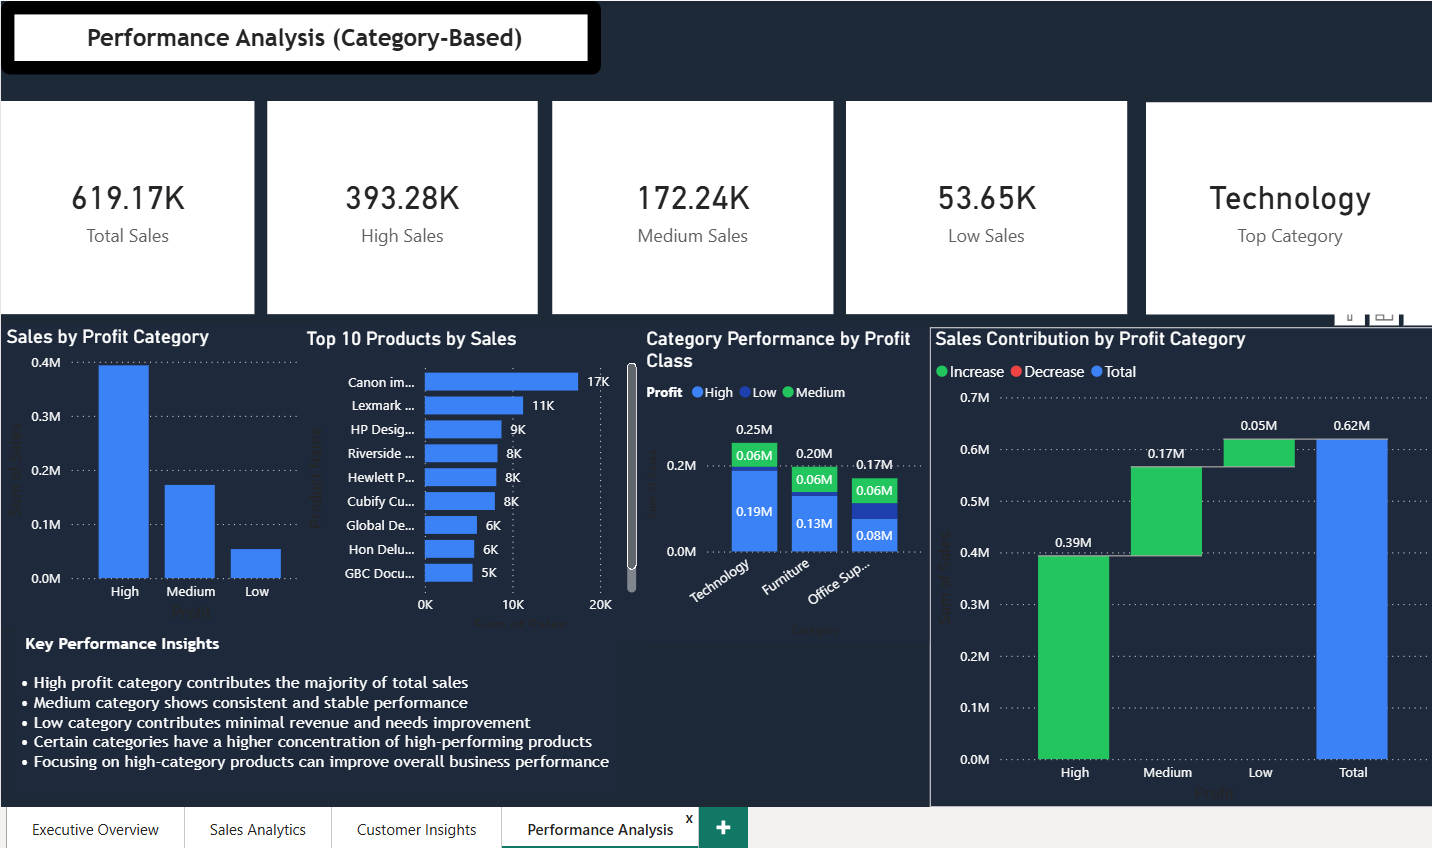

Layout of this report page (visuals, bound fields, positions):
{"tool":"powerbi","page":{"name":"Performance Analysis","canvas":[1280,720],"ordinal":3},"visuals":[{"type":"waterfallChart","title":"Sales Contribution by Profit Category","fields":{"Category":["train.Profit"],"Y":["Sum(train.Sales)"]},"box":[830.2,290.9,450.1,429.5],"z":2000},{"type":"textbox","box":[0,0,536,65.9],"z":5000},{"type":"card","fields":{"Values":["train.Top Category"]},"box":[1022.3,90.6,258,189.4],"z":5003},{"type":"card","fields":{"Values":["train.Total Sales"]},"box":[0,89.2,226.4,190.7],"z":5004},{"type":"card","fields":{"Values":["train.High Sales"]},"box":[237.4,89.2,241.5,190.7],"z":5005},{"type":"card","fields":{"Values":["train.Medium Sales"]},"box":[492.6,89.2,251.1,190.7],"z":5006},{"type":"card","fields":{"Values":["train.Low Sales"]},"box":[754.7,89.2,251.1,190.7],"z":5007},{"type":"clusteredColumnChart","title":"Sales by Profit Category","fields":{"Category":["train.Profit"],"Y":["Sum(train.Sales)"]},"box":[0,289.5,281.3,270.3],"z":5008},{"type":"columnChart","title":"Category Performance by Profit Class","fields":{"Category":["train.Category"],"Series":["train.Profit"],"Y":["Sum(train.Sales)"]},"box":[572.2,290.9,258,281.3],"z":5009},{"type":"clusteredBarChart","title":"Top 10 Products by Sales","fields":{"Category":["train.Product Name"],"Y":["Sum(train.Sales)"]},"box":[267.6,290.9,304.6,279.9],"z":5010},{"type":"textbox","box":[12.3,559.9,537.9,148.2],"z":5011}]}

Visuals, with their boxes on the page's 1280x720 design canvas (x1, y1, x2, y2). These are canvas units, not pixel positions in the 1432x848 screenshot, which may show the page scaled, cropped or inside an application window:
"Sales Contribution by Profit Category" waterfallChart: 830,291,1280,720
textbox: 0,0,536,66
card - train.Top Category: 1022,91,1280,280
card - train.Total Sales: 0,89,226,280
card - train.High Sales: 237,89,479,280
card - train.Medium Sales: 493,89,744,280
card - train.Low Sales: 755,89,1006,280
"Sales by Profit Category" clusteredColumnChart: 0,290,281,560
"Category Performance by Profit Class" columnChart: 572,291,830,572
"Top 10 Products by Sales" clusteredBarChart: 268,291,572,571
textbox: 12,560,550,708
